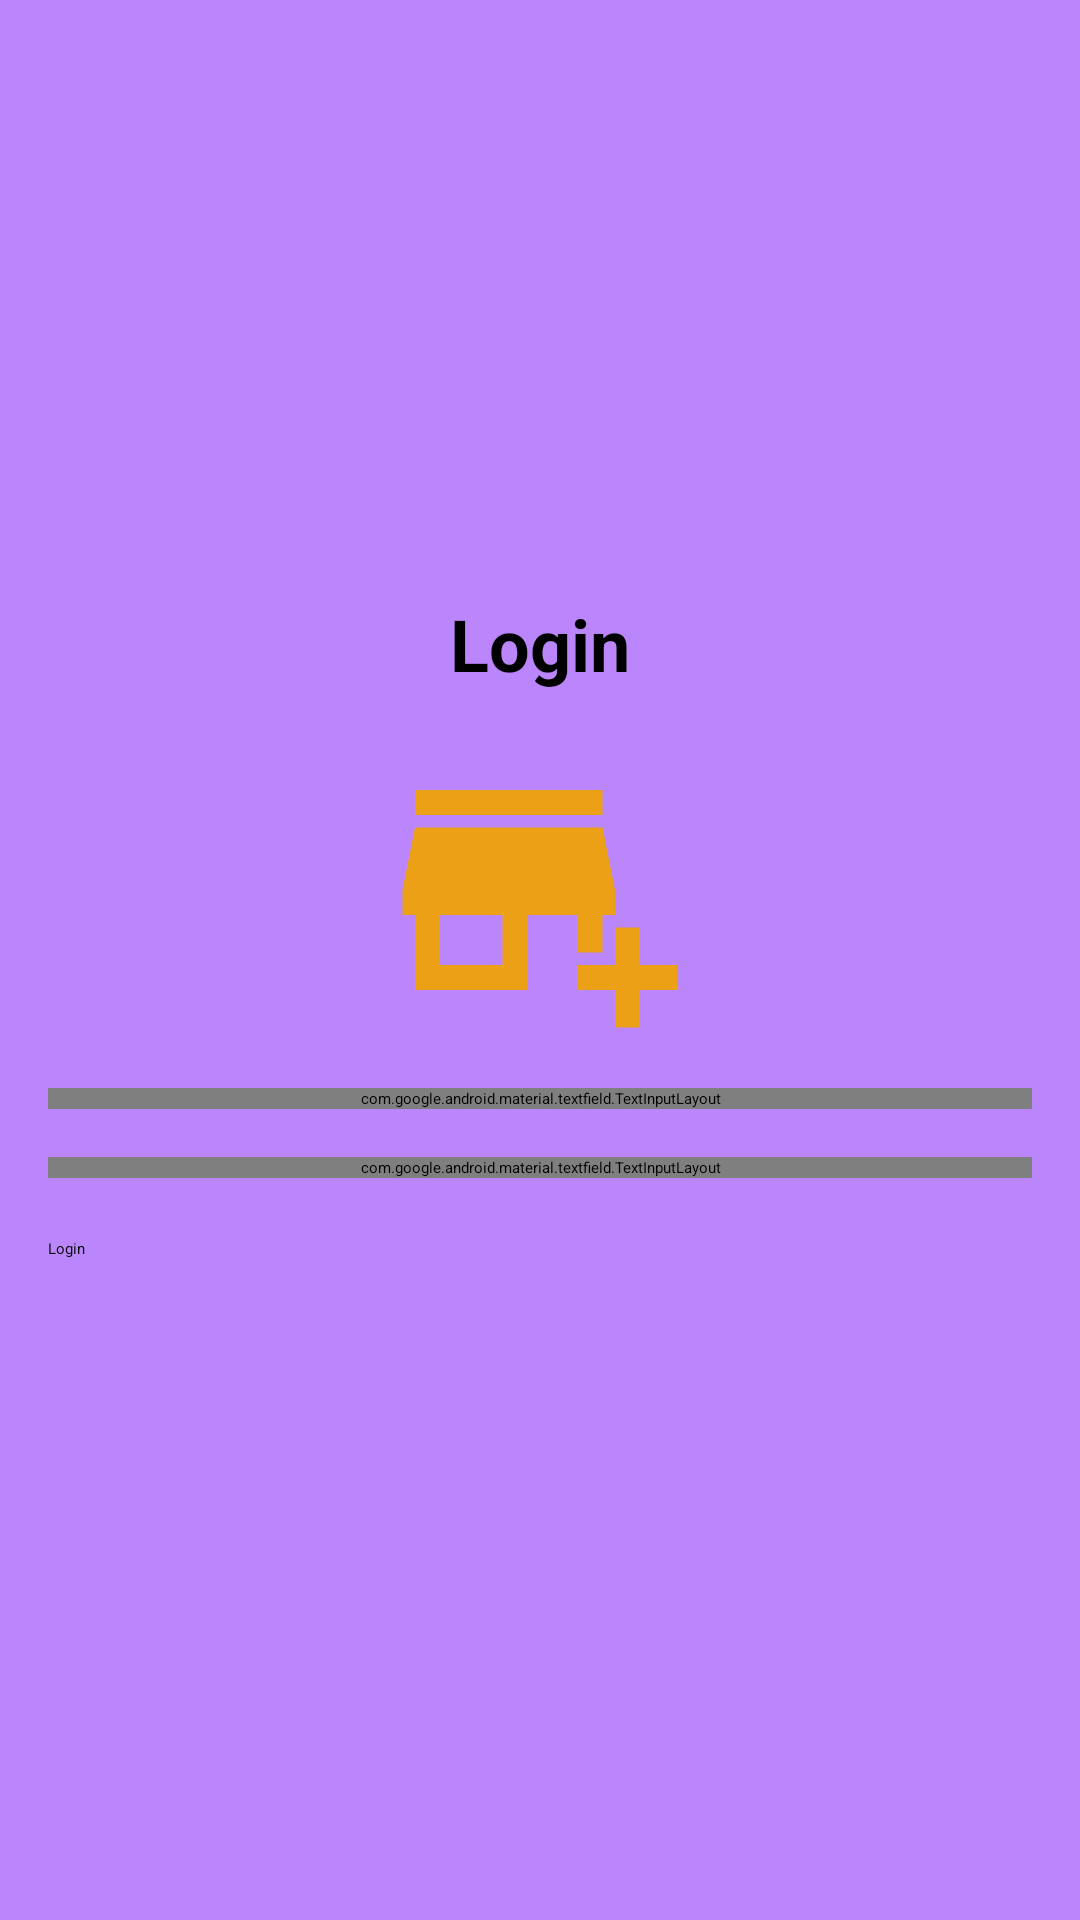

Named icons in this screenshot (1080*1920) and their centers, [x,y]:
business: [540,909]
